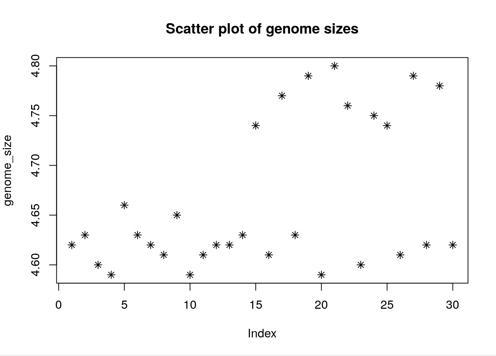axis: (47, 280, 472, 291), (47, 54, 62, 294)
point: (274, 89, 291, 103), (446, 238, 460, 252), (354, 258, 368, 271), (302, 69, 315, 83), (63, 239, 79, 250), (170, 209, 184, 221), (340, 100, 355, 111), (248, 120, 263, 131), (118, 199, 131, 211), (105, 269, 118, 281), (262, 249, 275, 261), (395, 249, 408, 261), (79, 230, 92, 241), (93, 258, 104, 271), (367, 110, 380, 121), (145, 239, 156, 251), (132, 228, 144, 239), (422, 241, 434, 252), (408, 71, 420, 82), (236, 230, 249, 240), (434, 80, 445, 91), (330, 61, 341, 72), (211, 239, 221, 251), (224, 239, 234, 251), (381, 121, 393, 131), (198, 248, 207, 261), (184, 270, 195, 280), (160, 250, 171, 260), (317, 270, 327, 281), (290, 230, 300, 240)
